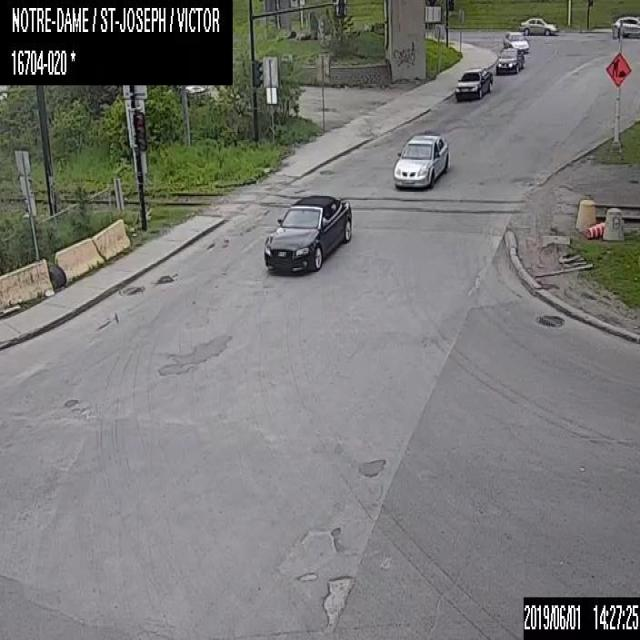construction: (604, 51, 630, 85), (585, 221, 604, 238)
vehicle: (263, 195, 351, 272), (392, 134, 448, 186), (454, 68, 492, 100), (495, 47, 524, 74), (610, 15, 639, 38), (519, 17, 558, 34), (502, 31, 528, 50)
